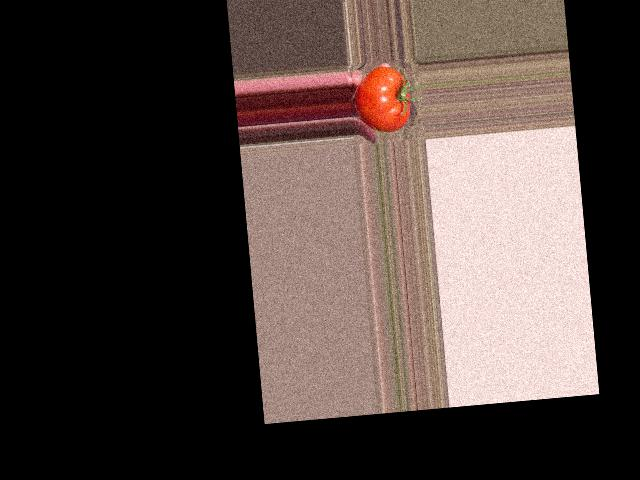tomato: (352, 64, 413, 134)
